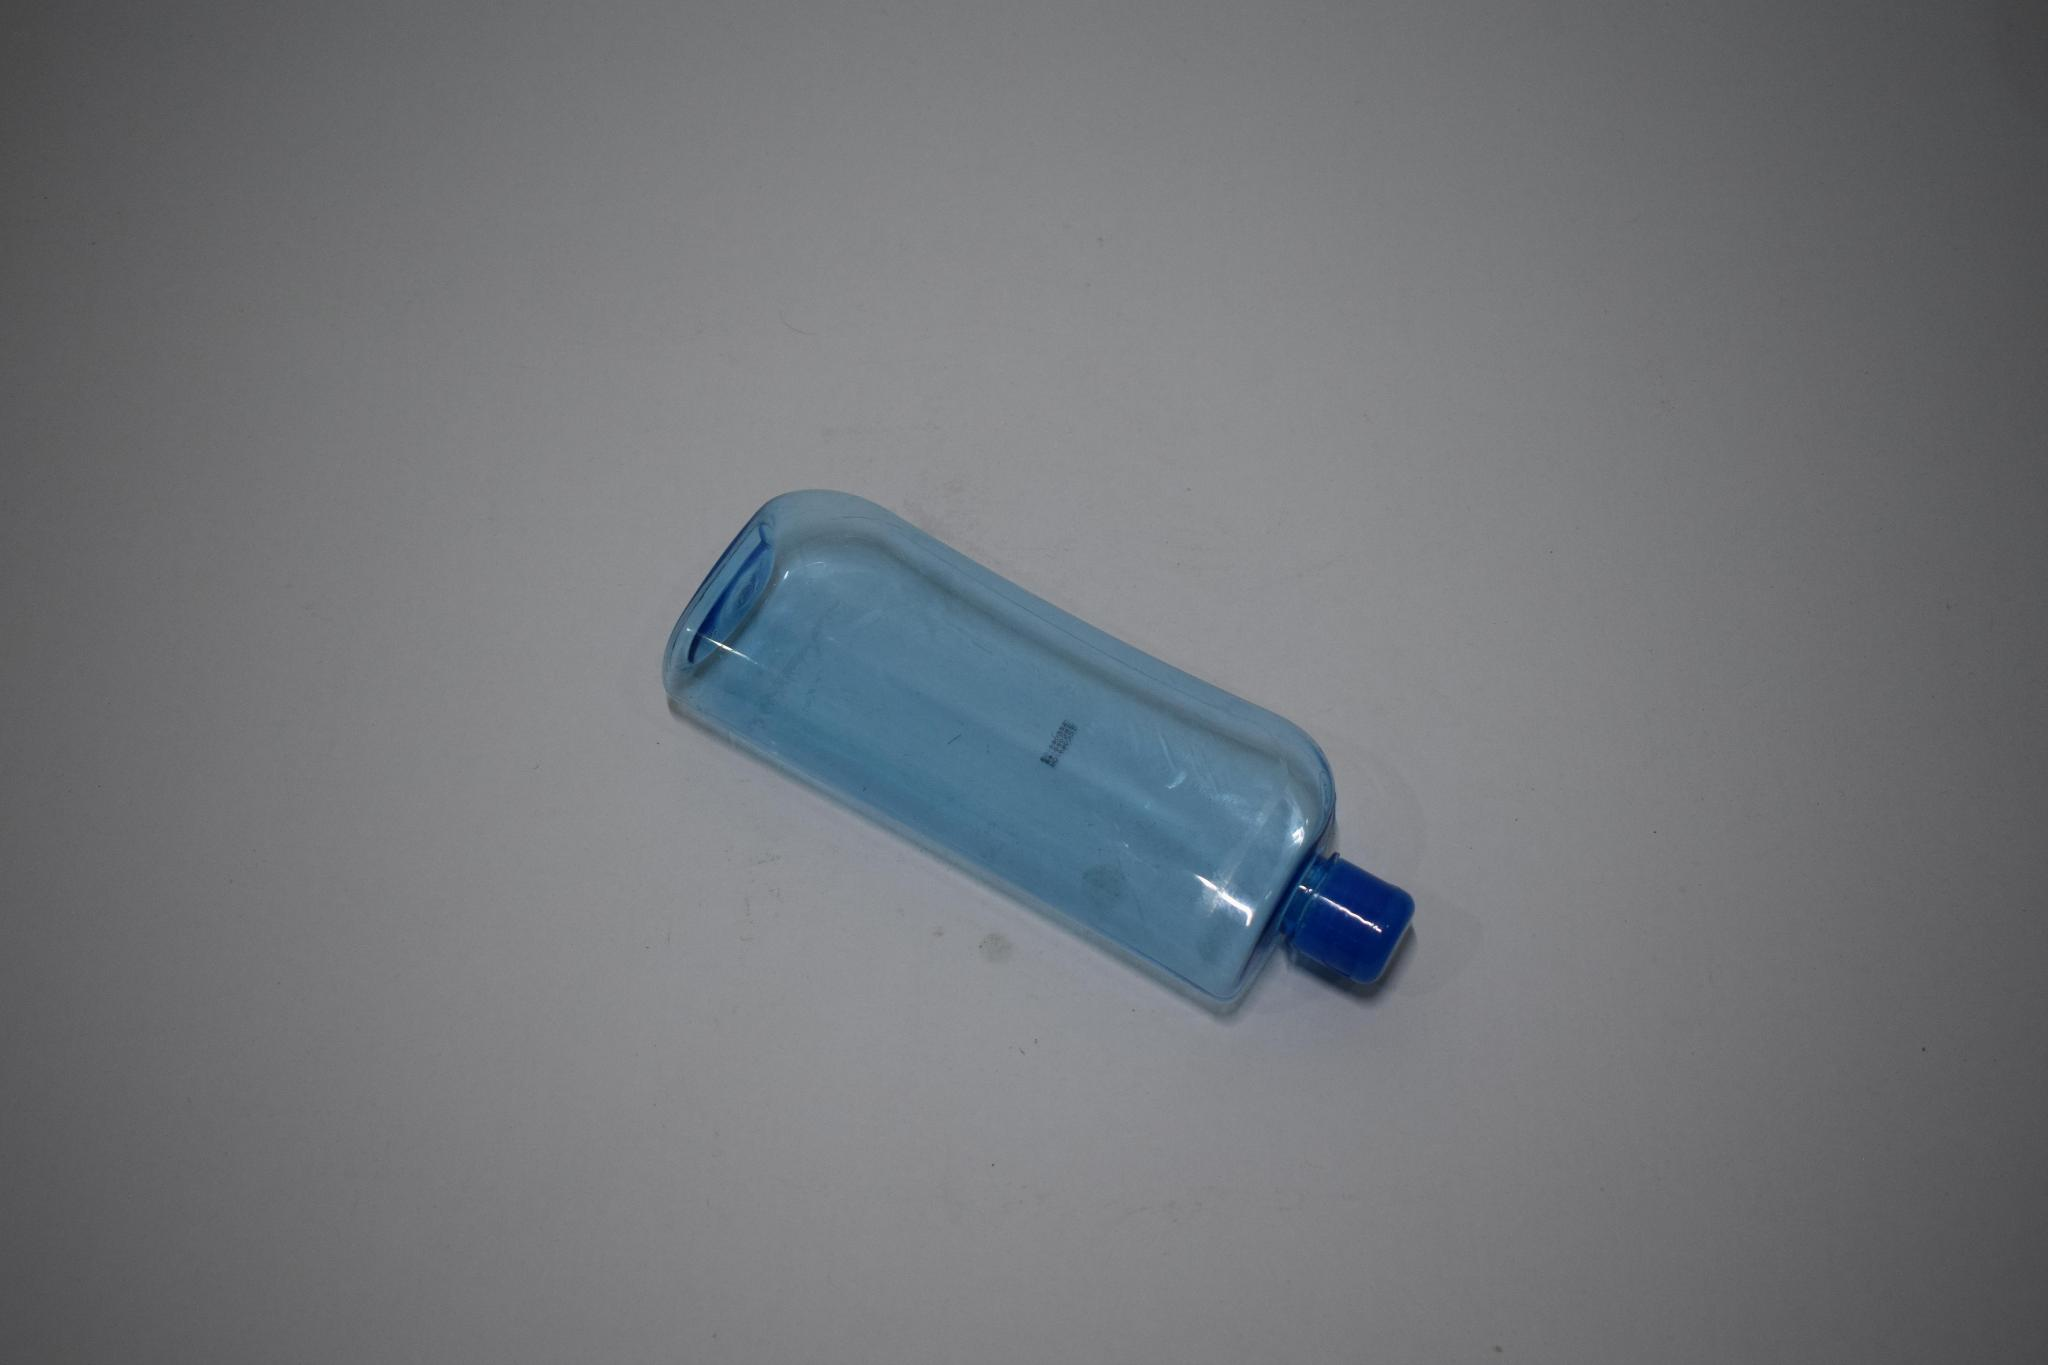bottle: (615, 475, 1469, 1027)
